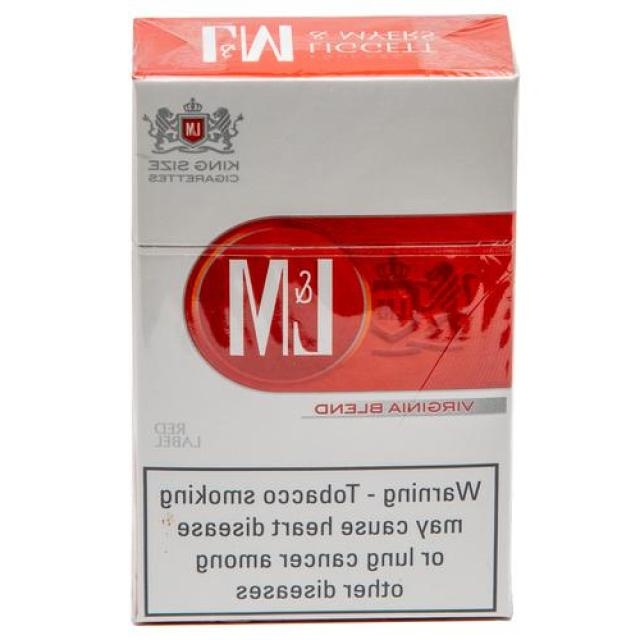lm: (120, 12, 529, 636)
